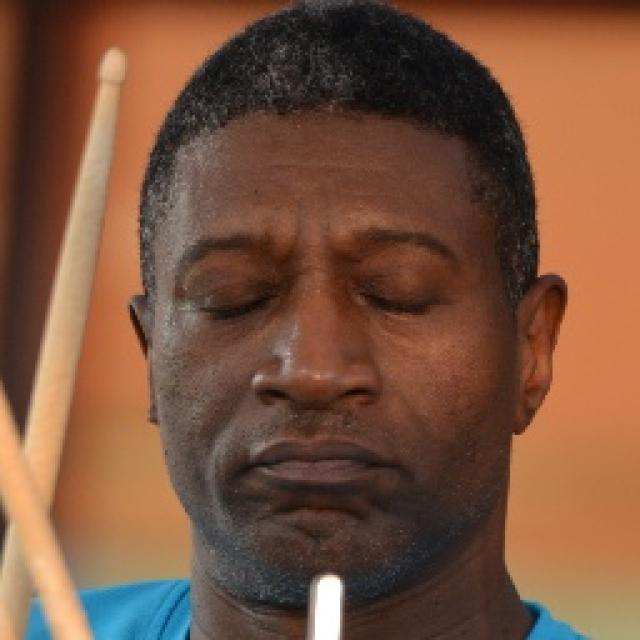earlobe: (509, 389, 540, 436), (145, 390, 161, 428)
eye: (360, 277, 449, 320), (188, 281, 276, 323)
nose: (254, 392, 374, 435)
wholeear: (510, 272, 567, 436), (127, 296, 161, 429)
